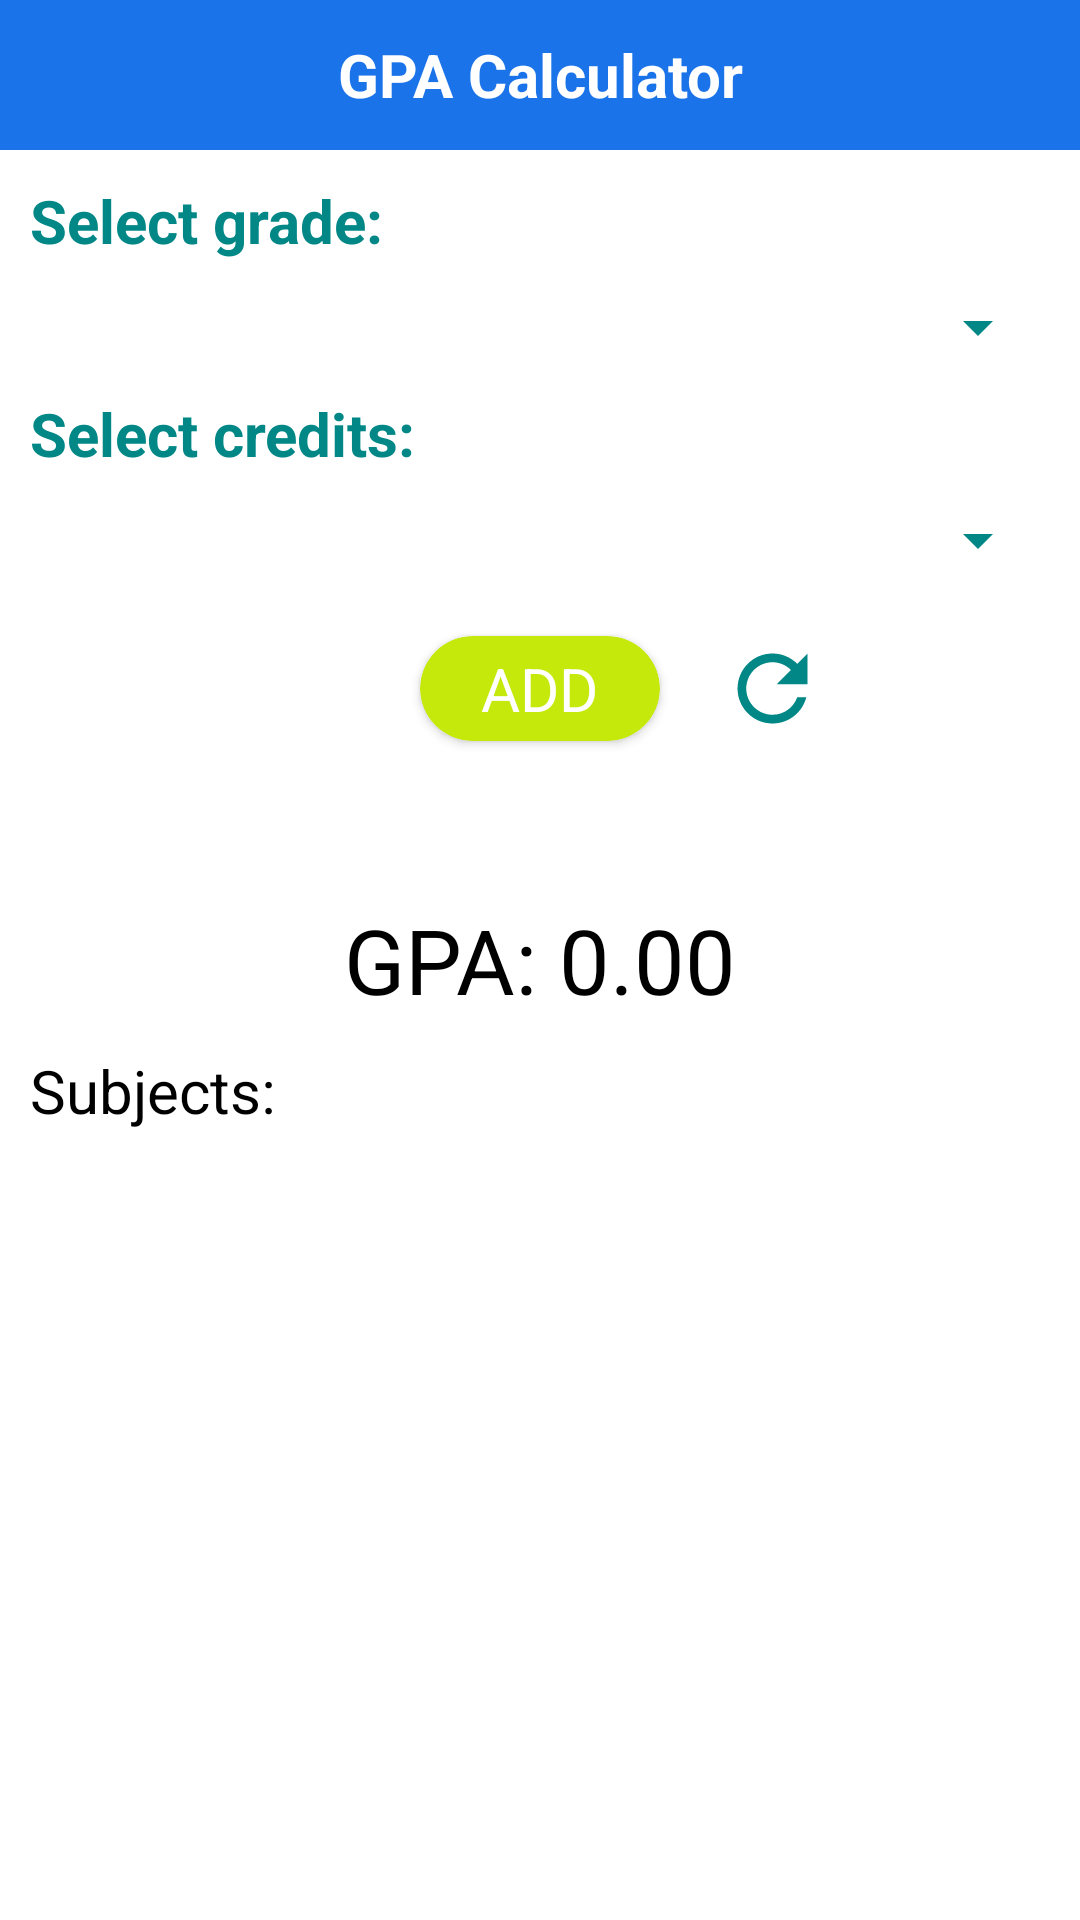

Point at icon controls on the screen. Image size 1080 × 1920, points as (x,y).
refresh: (772,688)
